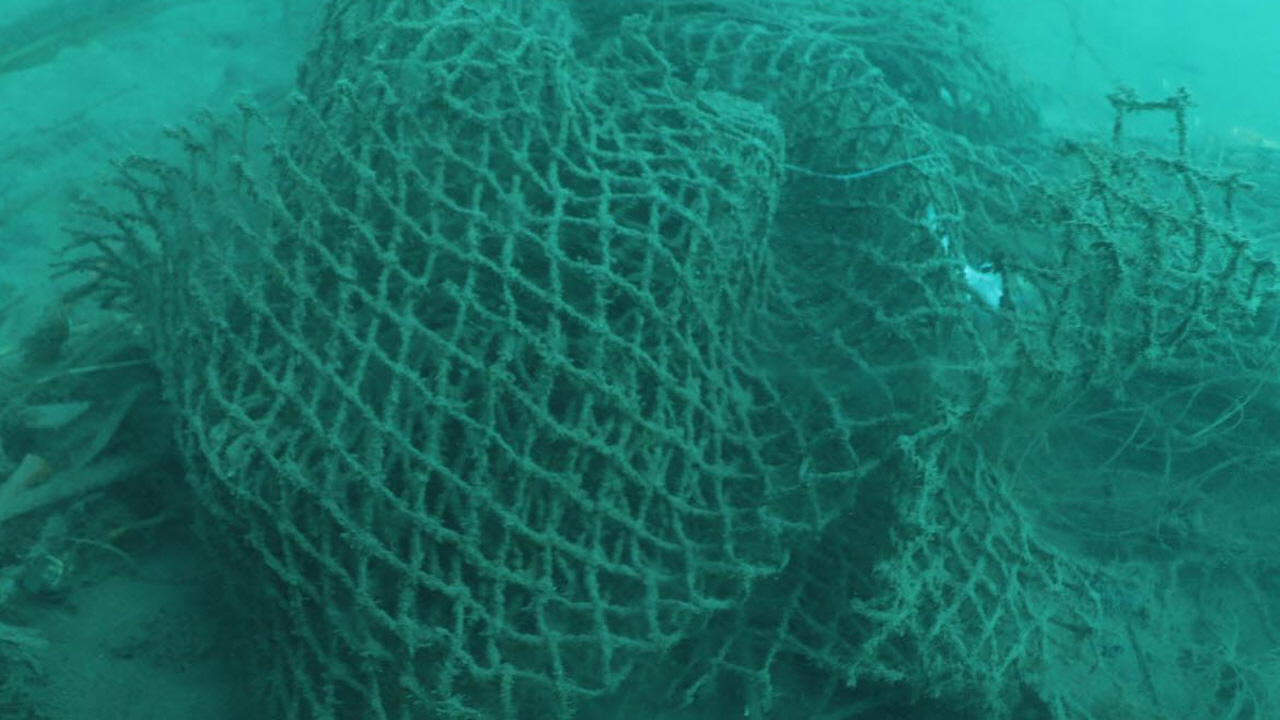fish net: (74, 0, 1266, 720)
